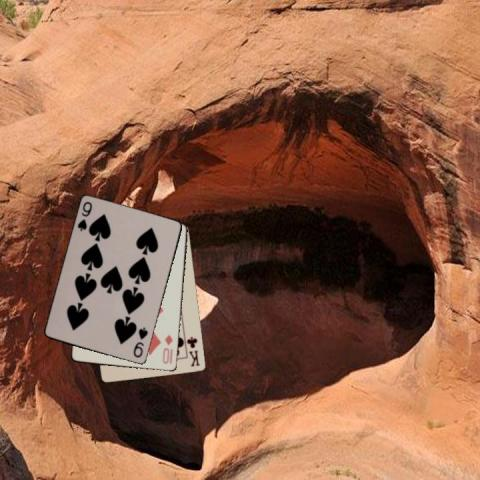10d: (159, 332, 174, 365)
9s: (131, 324, 149, 359), (75, 198, 93, 232)
Kc: (185, 334, 201, 368)
